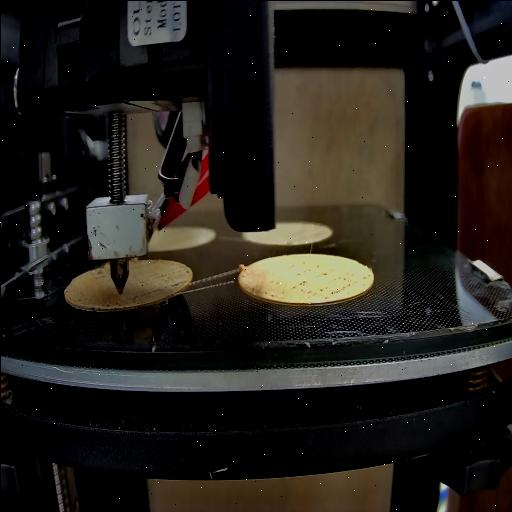under_extrusion: (250, 273, 366, 296), (68, 285, 114, 309), (146, 274, 190, 293)
